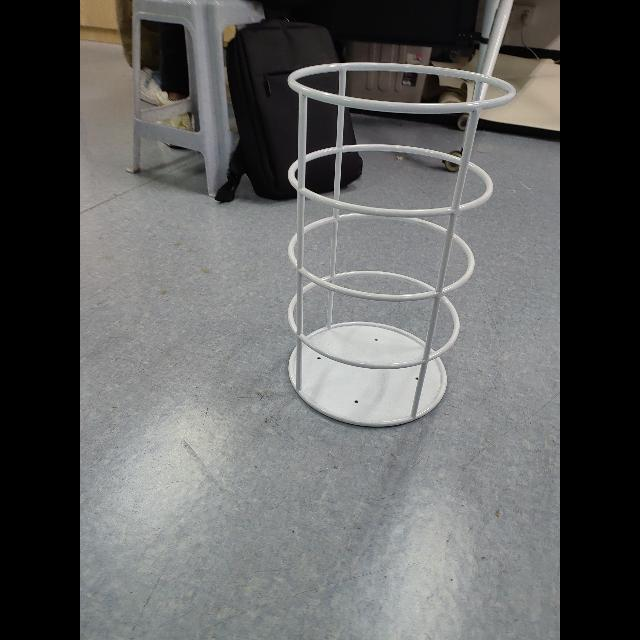S: (283, 54, 519, 430)
